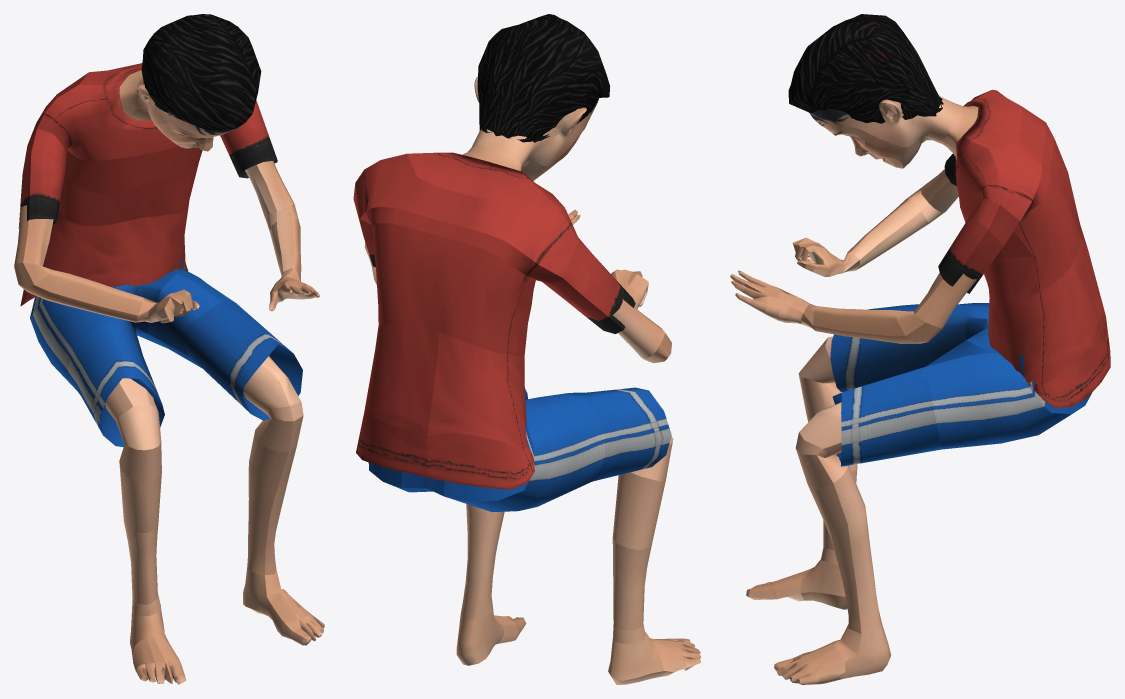
File: writing ch.fbx
3 views of the same model, side by side, from view 1: azimuth 30°, elevation 25°; view 2: azimuth 150°, elevation 25°; view 3: azimuth 270°, elevation 25° (orthographic). The views are drawn at different scales.
Visible parts, largest first — view 1: childer1; view 2: childer1; view 3: childer1.
Boxes of the visible parts, x1=… form: childer1: x1=14, y1=14, x2=324, y2=684; childer1: x1=353, y1=14, x2=701, y2=684; childer1: x1=730, y1=14, x2=1110, y2=684.
Size of the model in its own units: 18.57 by 39.7 by 21.99.
